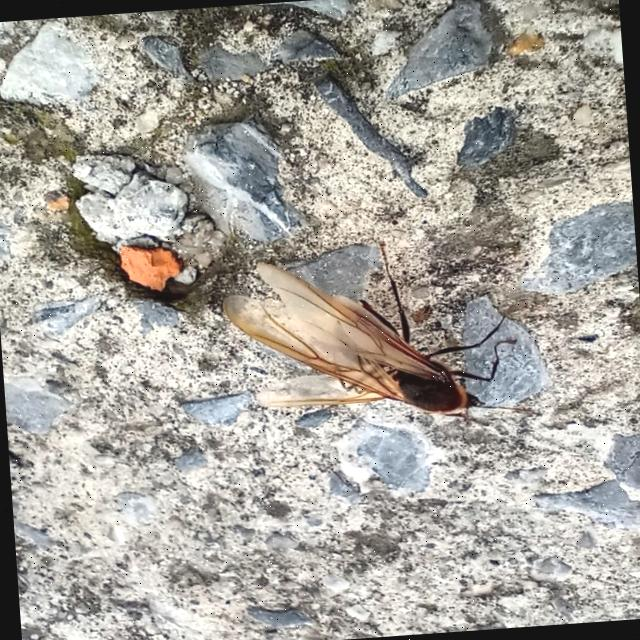Alive-Male-Alate: (218, 229, 535, 466)
